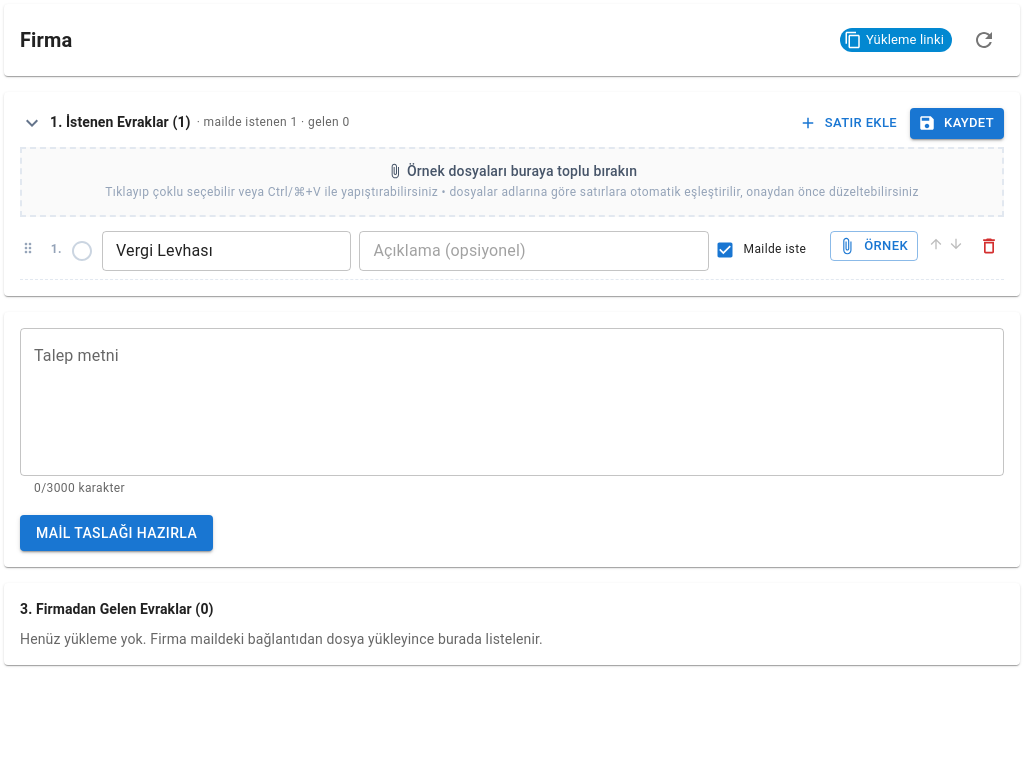
açılışta mail üretmez; metin ve seçimler kaydedildikten sonra ayrı taslak ekranı açılır
The image size is (1024, 768).
Later steps or results of the test are not shown.
Check: the field labelled "İçerik" is not shown
Type "Belgeleri hazırlayınız." into the text box labelled "Talep metni" at (512, 402), box [34,344,990,459]
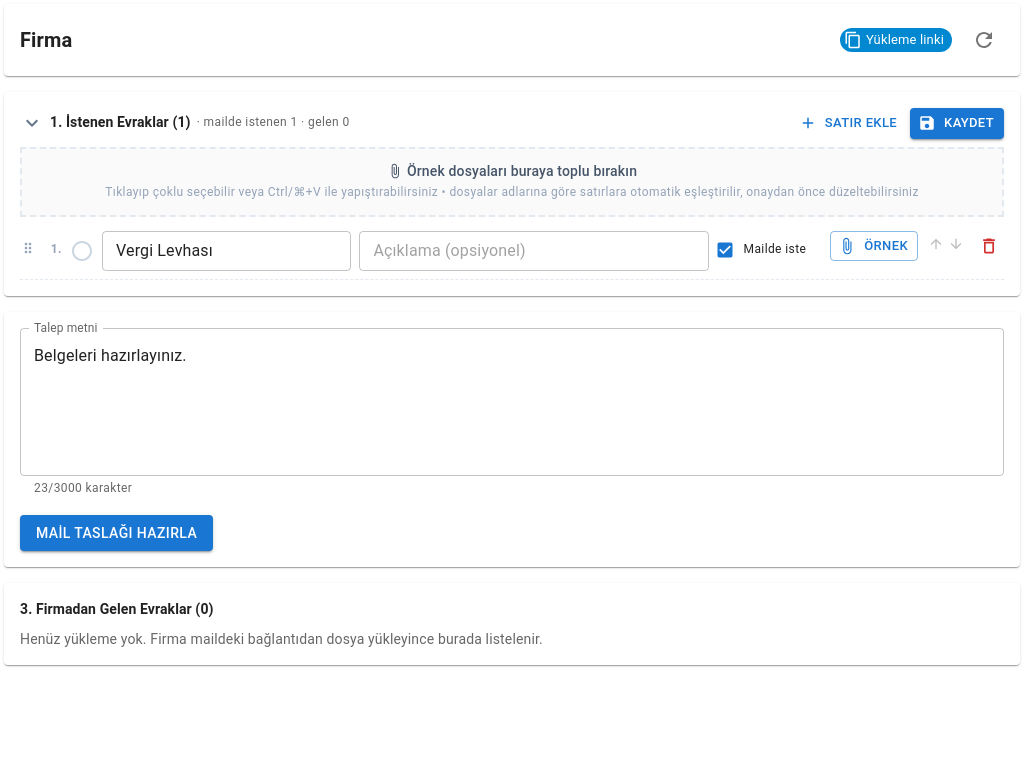
Click the button "Mail Taslağı Hazırla" at (117, 533), box [20,515,213,551]
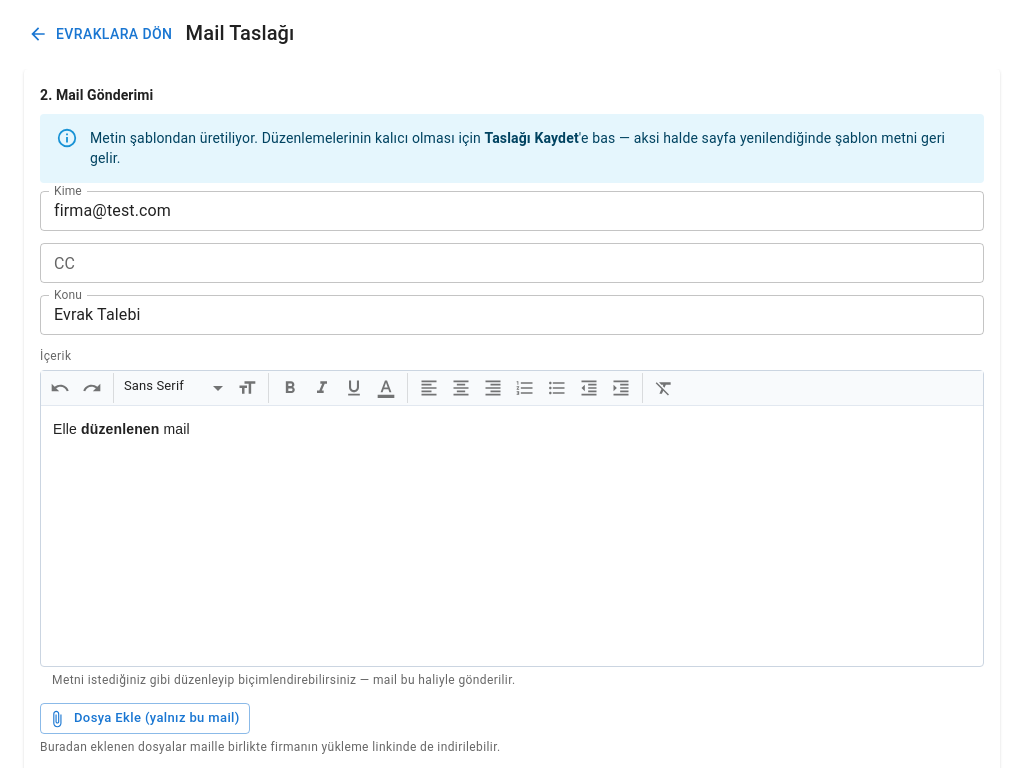
Click the button "Evraklara dön" at (102, 34), box [24,16,180,52]
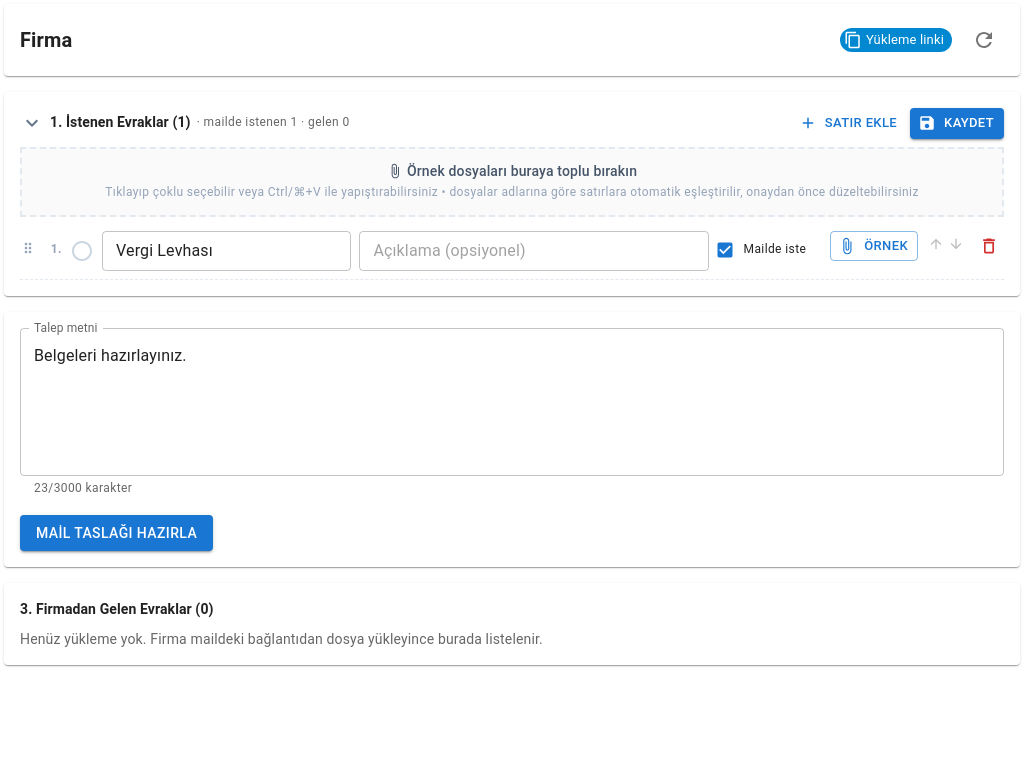
Check: the text labelled "İçerik" is gone
Click the button "Mail Taslağı Hazırla" at (117, 533), box [20,515,213,551]
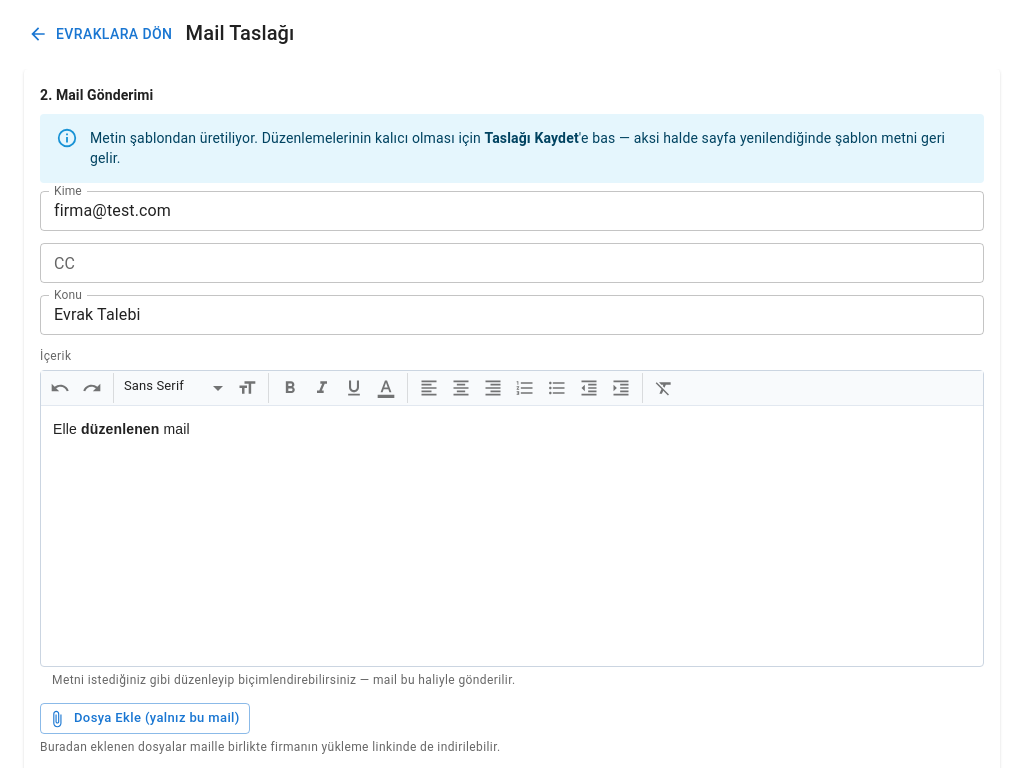
Check: the field named "İçerik" reads "Elle düzenlenen mail", box [53,421,190,437]
